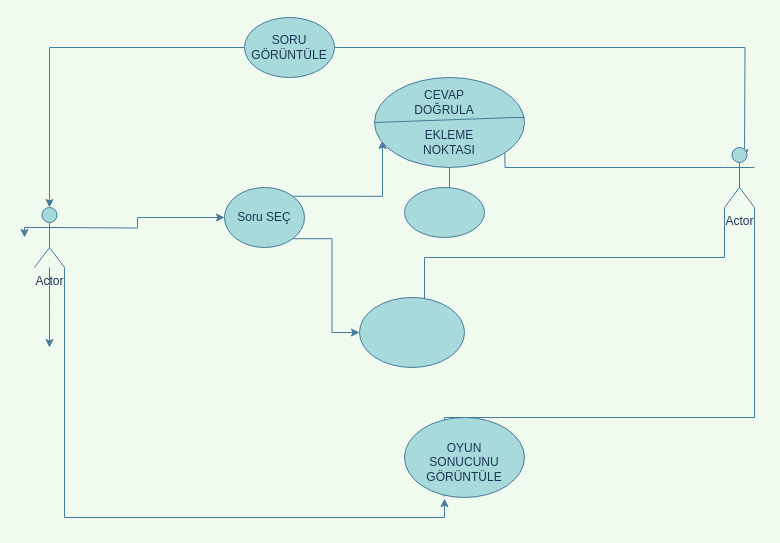
This 780x543 diagram has some shape labels left out. Each missing label, with the box of its shape:
SKOR EKLE: (404, 186, 484, 238)
ZAMAN SAYACI: (358, 296, 464, 368)
